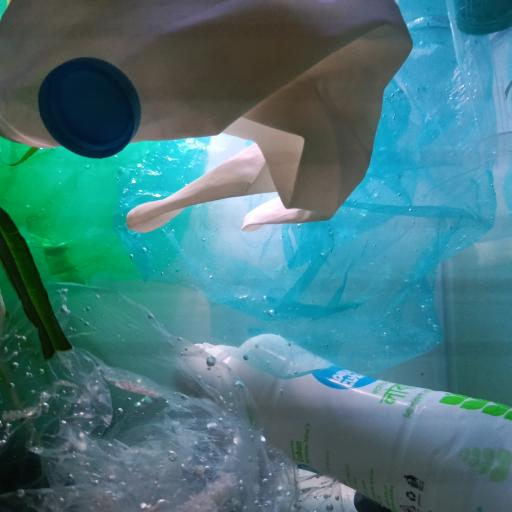bottle_cap: (37, 55, 142, 159), (452, 0, 512, 35)
glove: (2, 2, 413, 234)
plastic_bag: (132, 0, 498, 371), (3, 293, 299, 512), (4, 140, 206, 290)
plastic_bottle: (173, 331, 512, 511)
plastic_cup: (446, 0, 512, 164)
